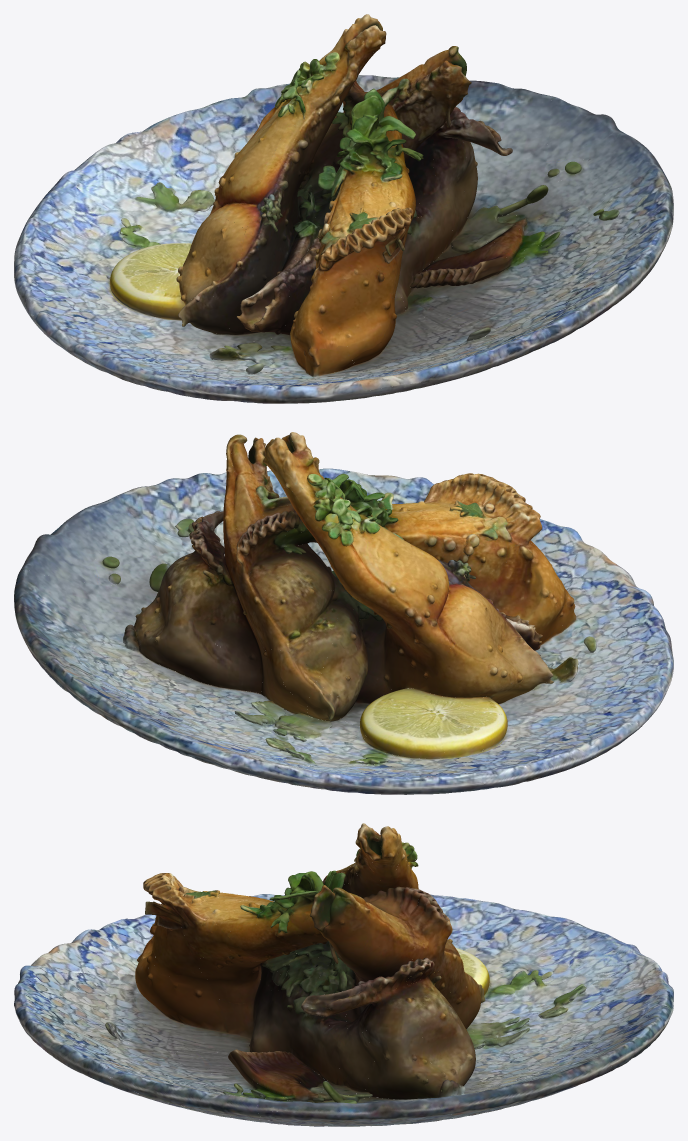
File: baliq2.glb
3 views of the same model, one above another, from view 1: azimuth 30°, elevation 25°; view 2: azimuth 150°, elevation 25°; view 3: azimuth 270°, elevation 25° (orthographic).
Visible parts, largest first — view 1: baliq; view 2: baliq; view 3: baliq.
Part boxes in pixels (x1,y1,x2,y2): baliq: (14,14,673,403); baliq: (14,432,673,794); baliq: (14,823,673,1126).
Size of the model in its own units: 0.7574 by 0.3357 by 0.7486.
Materials: 1 (1 with a texture image).
